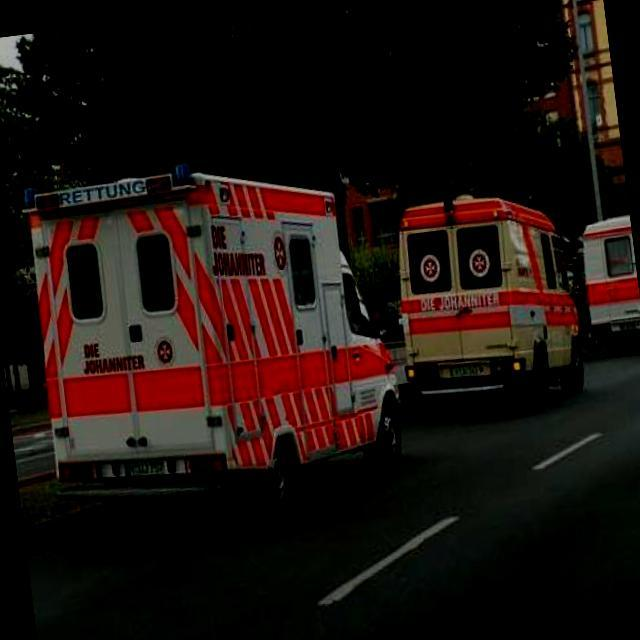emergency-vehicle: (22, 144, 410, 545), (386, 192, 592, 406)
